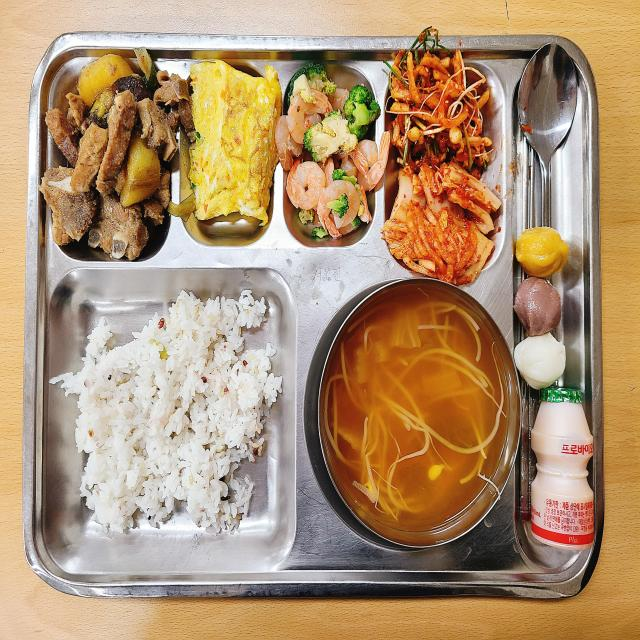Egg: (189, 60, 282, 221)
Green veg: (303, 85, 380, 165), (290, 63, 337, 99), (332, 167, 360, 191), (329, 194, 349, 218), (351, 204, 363, 228), (299, 209, 316, 225), (311, 225, 329, 238)
Non green veg: (389, 29, 492, 179), (381, 163, 501, 286)
Pork: (40, 49, 194, 260)
Rice: (51, 291, 282, 534)
